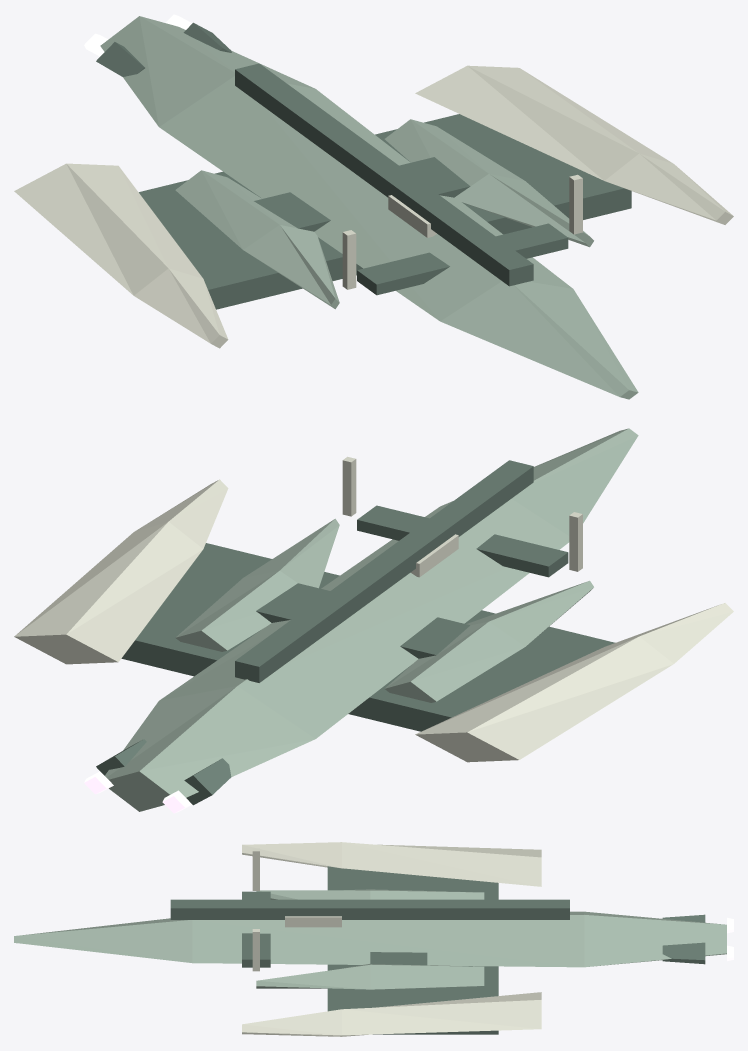
The picture shows the model from 3 angles, top to bottom: view 1: azimuth 30°, elevation 25°; view 2: azimuth 150°, elevation 25°; view 3: azimuth 270°, elevation 25°; orthographic projection. The views are drawn at different scales.
Bounding box in the file's own units: 7.01 × 1.26 × 11.11.
